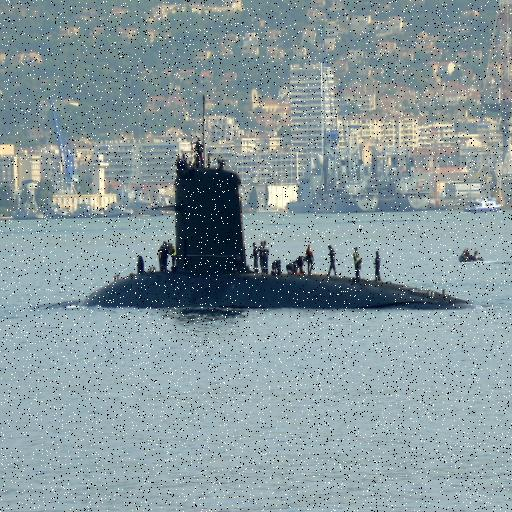submarine: (55, 170, 501, 313)
